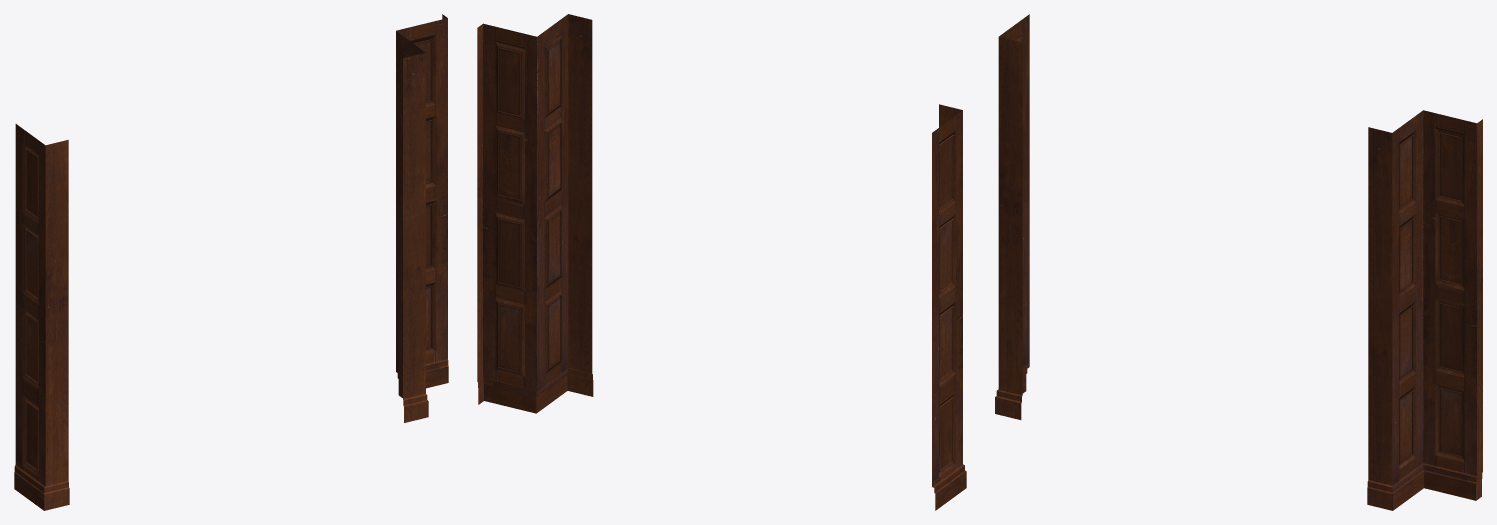
File: HalfSmallWall.obj
3 renders of one model, left to right at view 1: azimuth 30°, elevation 25°; view 2: azimuth 150°, elevation 25°; view 3: azimuth 330°, elevation 25°, orthographic. The views are drawn at different scales.
Visible parts, largest first — view 1: HalfSmallWall; view 2: HalfSmallWall; view 3: HalfSmallWall.
Part boxes in pixels (bbox=[...]): HalfSmallWall: bbox=[14, 14, 448, 510]; HalfSmallWall: bbox=[477, 14, 966, 510]; HalfSmallWall: bbox=[995, 14, 1482, 510].
Size of the model in its own units: 2.92 by 2.34 by 0.4259.
